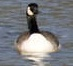goose: (10, 2, 64, 57)
